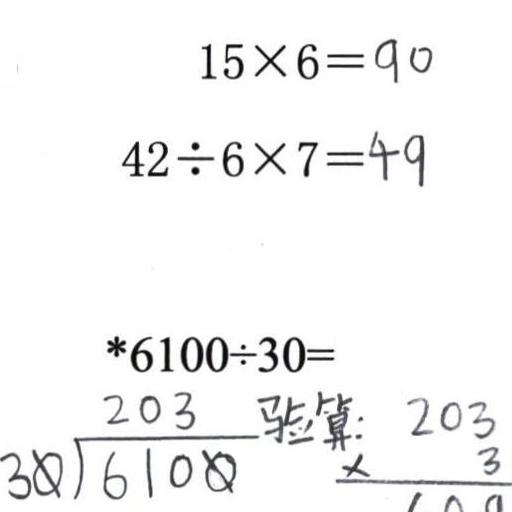ans: (365, 124, 426, 186), (371, 33, 433, 82)
